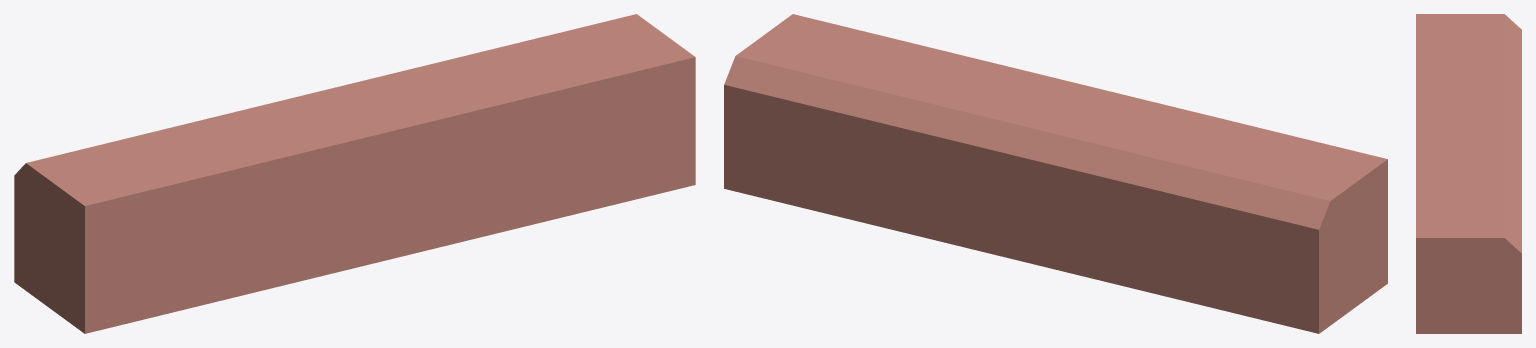
Rendered from TrimBasicWall1x5Var01_2.fbx.
The picture shows the model from 3 angles, left to right: view 1: azimuth 30°, elevation 25°; view 2: azimuth 150°, elevation 25°; view 3: azimuth 270°, elevation 25°; orthographic projection. The views are drawn at different scales.
Visible parts, largest first — view 1: TrimBasicWall1x5Var01_2.001; view 2: TrimBasicWall1x5Var01_2.001; view 3: TrimBasicWall1x5Var01_2.001.
Part boxes in pixels (box(x1,y1,x2,y2)): TrimBasicWall1x5Var01_2.001: box(14, 14, 695, 333); TrimBasicWall1x5Var01_2.001: box(724, 14, 1387, 333); TrimBasicWall1x5Var01_2.001: box(1416, 14, 1521, 333).
Size of the model in its own units: 500 by 100 by 100.
